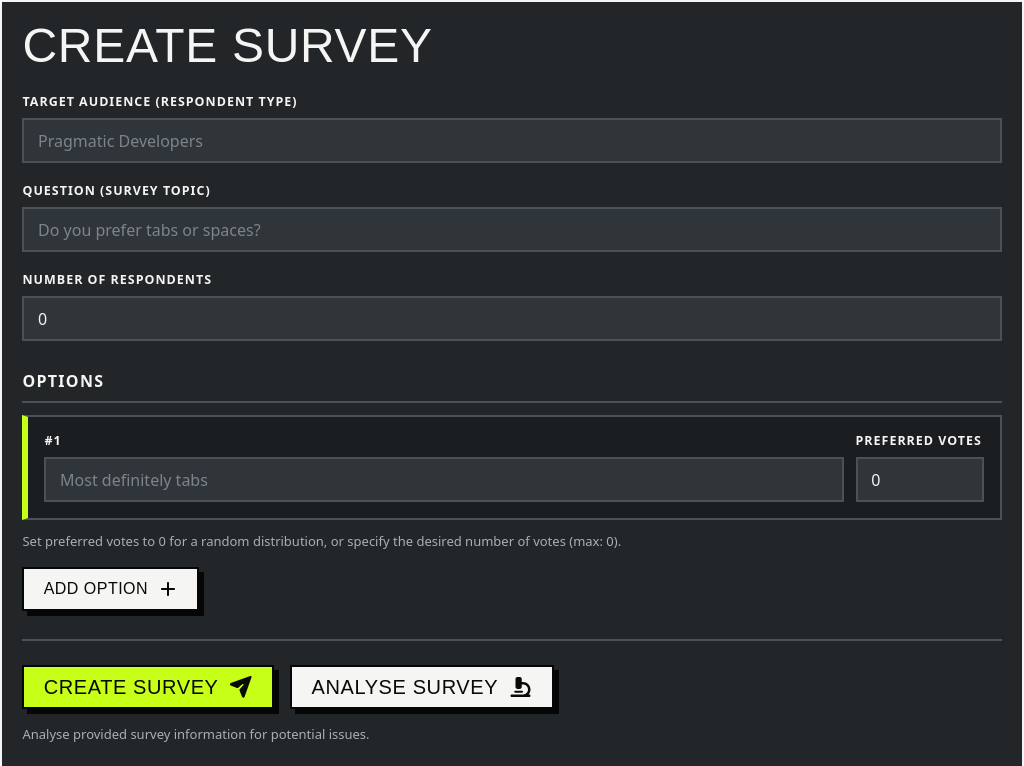
Test: CreateSurvey Component › Survey Analysis › should analyze survey data and show semantic suggestions
The image size is (1024, 766).
Click the button "Analyse Survey" at (422, 687), box x1=290 y1=665 x2=554 y2=709
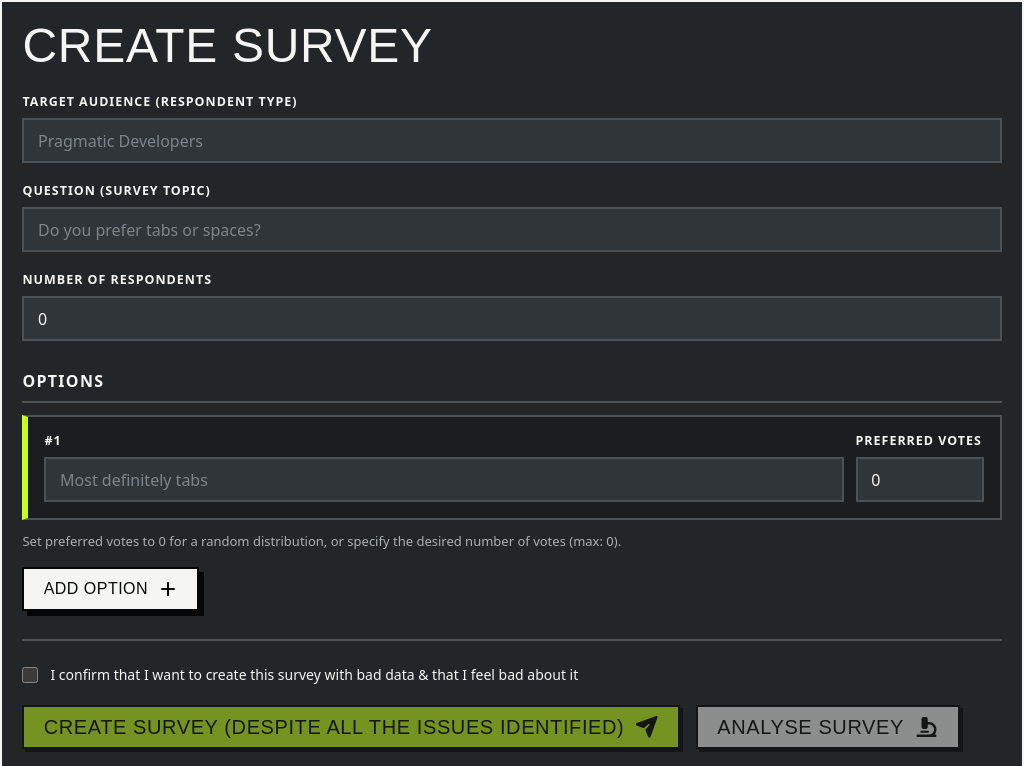
Now the button "Analyse Survey" is disabled, box x1=696 y1=705 x2=960 y2=749
Type "A different question" into the field labelled "Question (Survey Topic)" at (512, 230), box x1=22 y1=207 x2=1002 y2=252
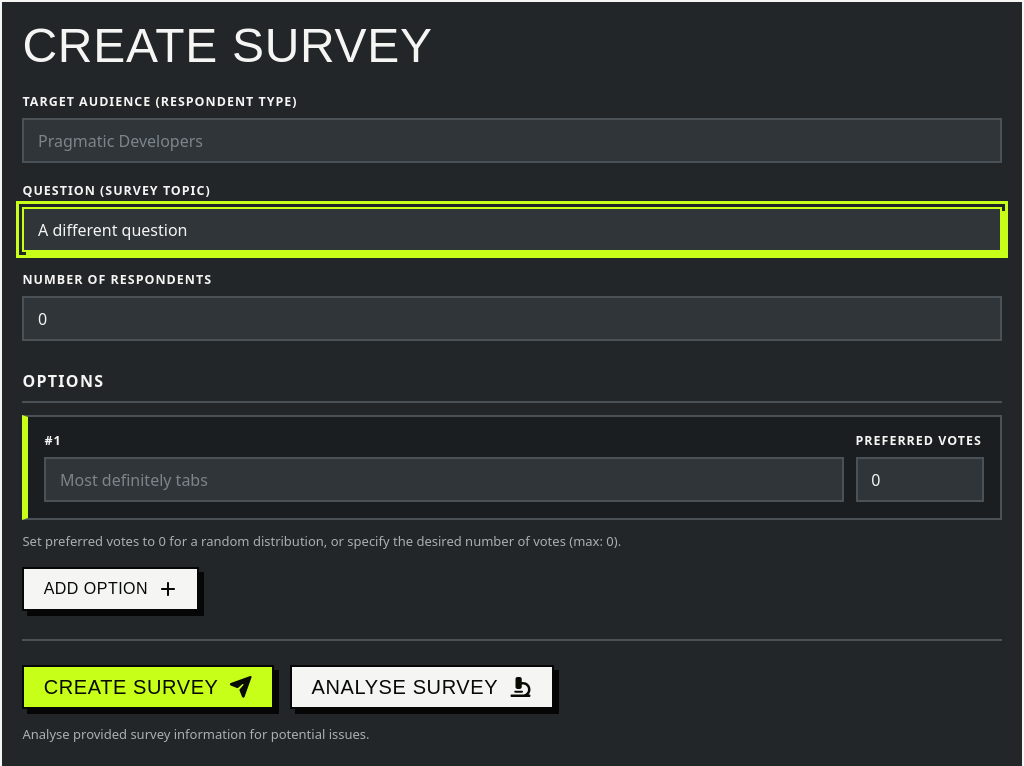
Now the button "Analyse Survey" is enabled, box x1=290 y1=665 x2=554 y2=709
